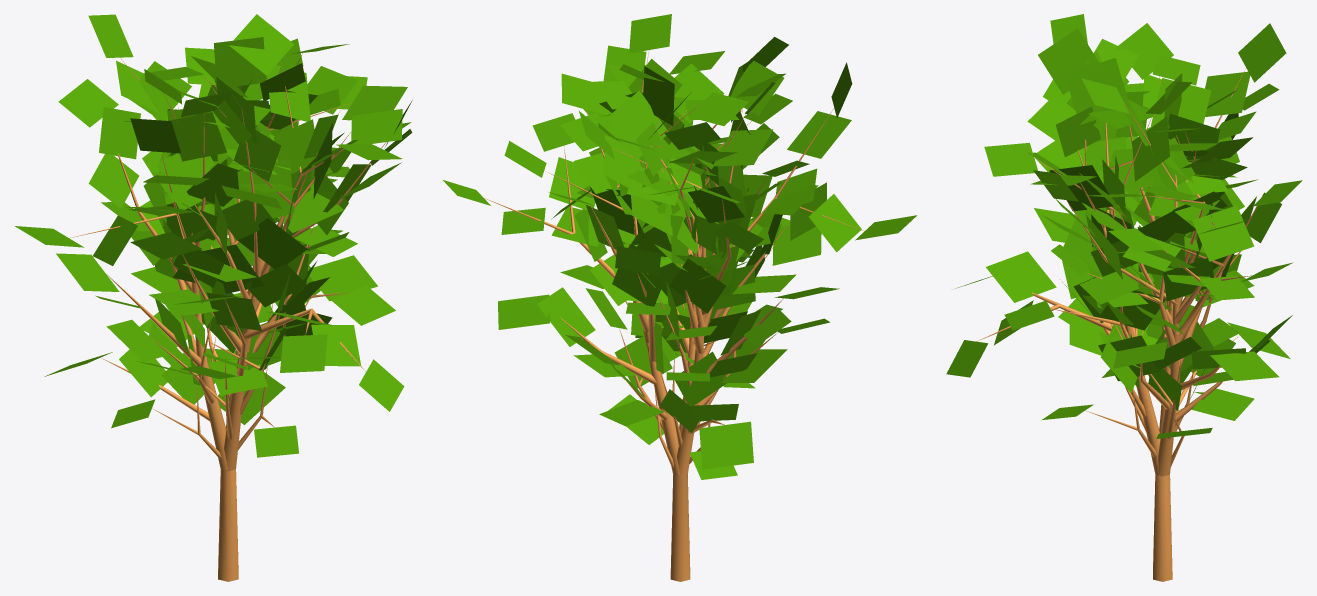
Rendered from LongTree0.fbx.
The picture shows the model from 3 angles, left to right: view 1: azimuth 30°, elevation 25°; view 2: azimuth 150°, elevation 25°; view 3: azimuth 270°, elevation 25°; orthographic projection. The views are drawn at different scales.
Visible parts, largest first — view 1: tree.001; view 2: tree.001; view 3: tree.001.
Boxes of the visible parts, box(x1,y1,x2,y2) form: tree.001: box(14, 14, 412, 581); tree.001: box(443, 14, 916, 581); tree.001: box(946, 14, 1302, 581).
Size of the model in its own units: 675 by 850 by 525.
